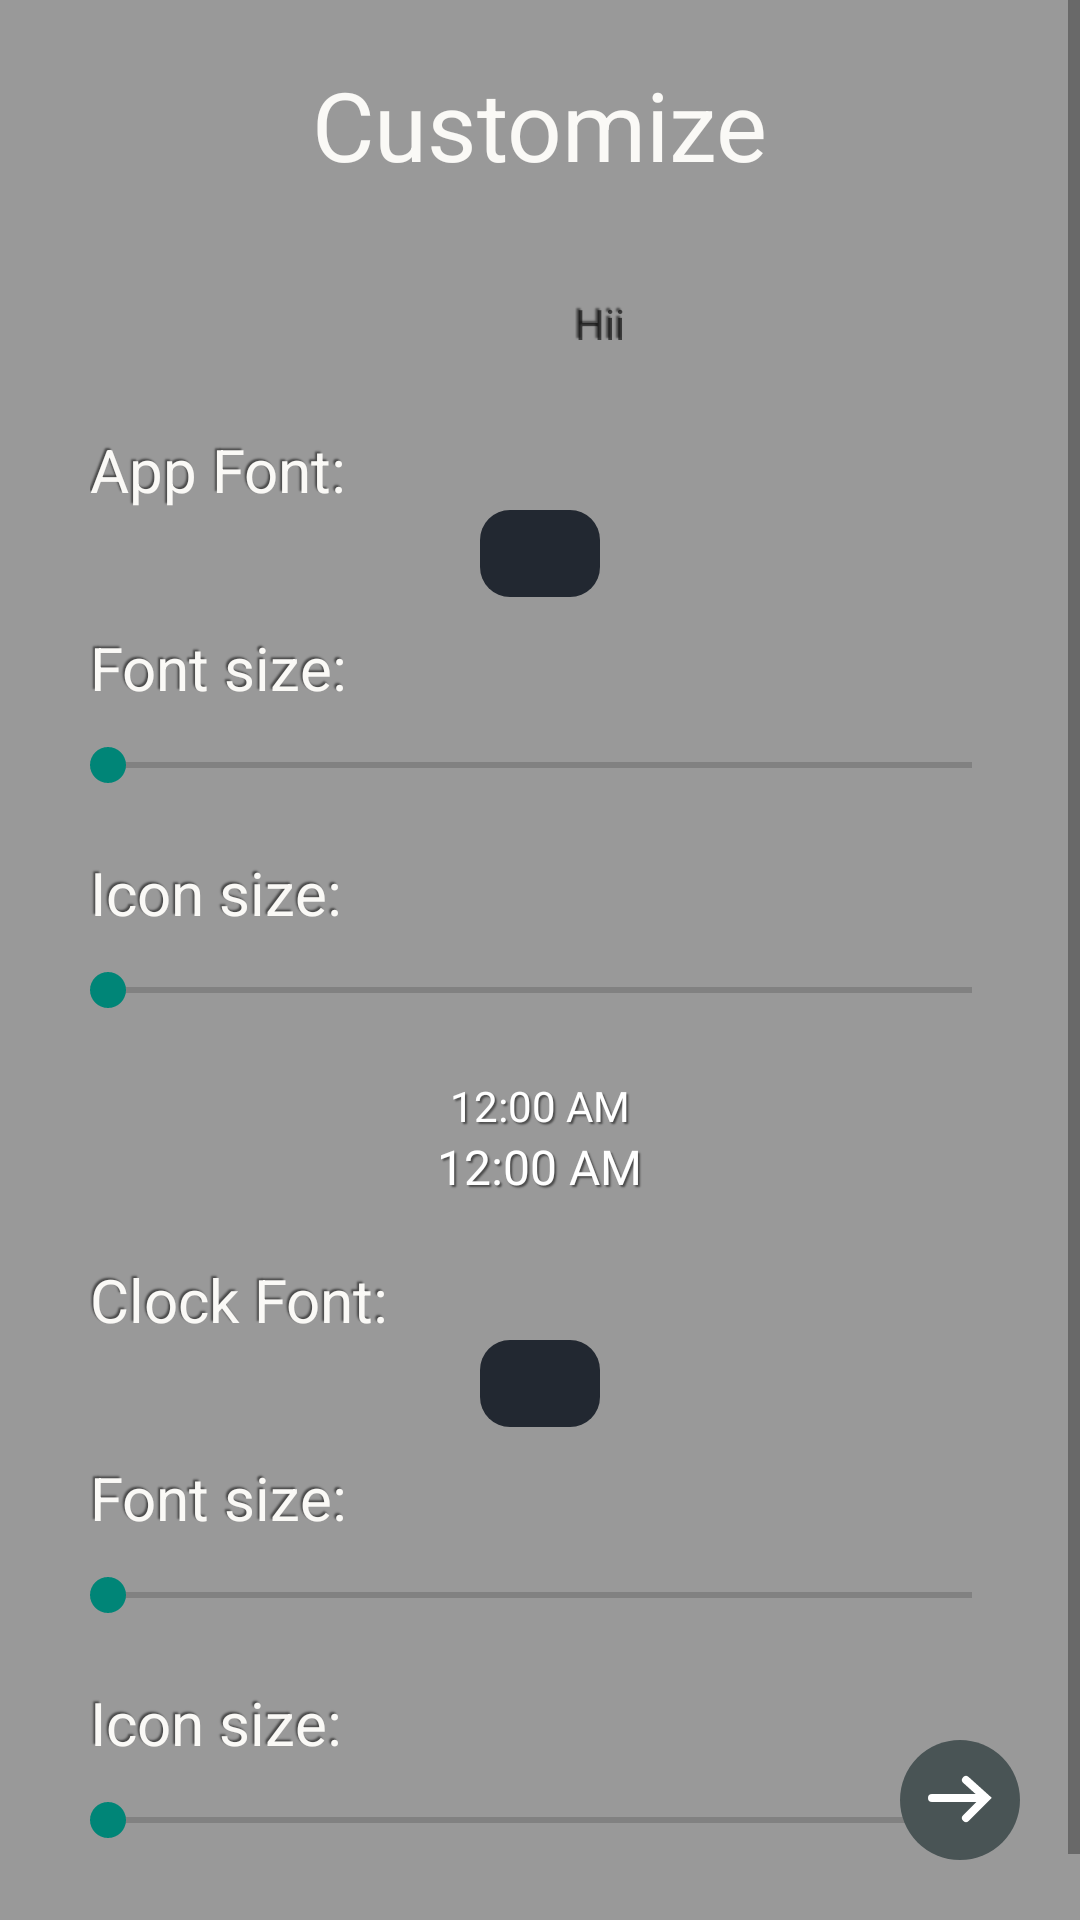

Icon click points for this 1080px x 1920px phone screenshot, format point (x, y):
arrowfilled: point (960, 1800)
